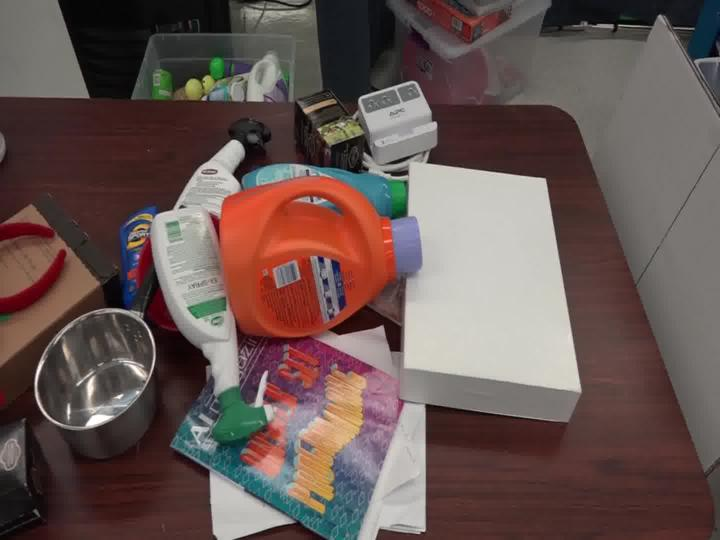downy: (207, 141, 410, 233)
